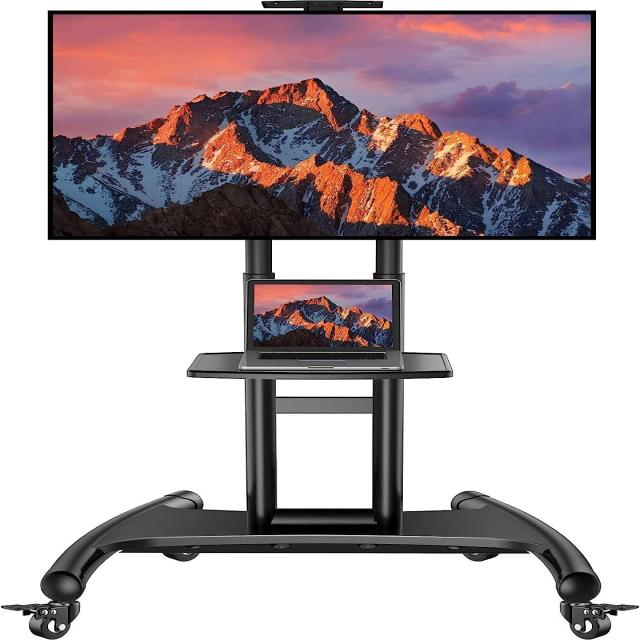electronics: (3, 0, 636, 637), (2, 352, 637, 637), (50, 9, 592, 239), (238, 279, 402, 370), (246, 279, 400, 350), (262, 0, 382, 11), (375, 241, 401, 276), (259, 351, 326, 364), (246, 240, 270, 276), (338, 351, 385, 360), (265, 0, 290, 8), (299, 3, 322, 8), (354, 2, 378, 6), (326, 3, 340, 8), (362, 3, 374, 8), (328, 354, 336, 359), (394, 315, 396, 320), (592, 12, 594, 14), (272, 4, 274, 6), (54, 129, 54, 130)
